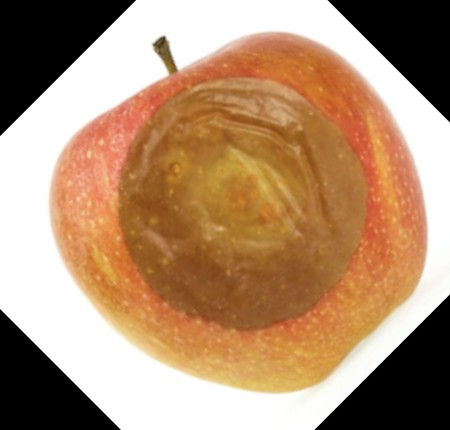rotten_apple: (46, 31, 427, 393)
